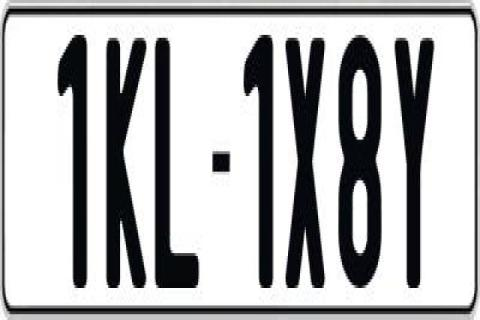0: (338, 27, 380, 280), (56, 27, 90, 280), (244, 35, 274, 305)
K: (106, 35, 146, 303)
L: (155, 35, 203, 297)
X: (284, 32, 330, 296)
Y: (392, 32, 434, 296)
